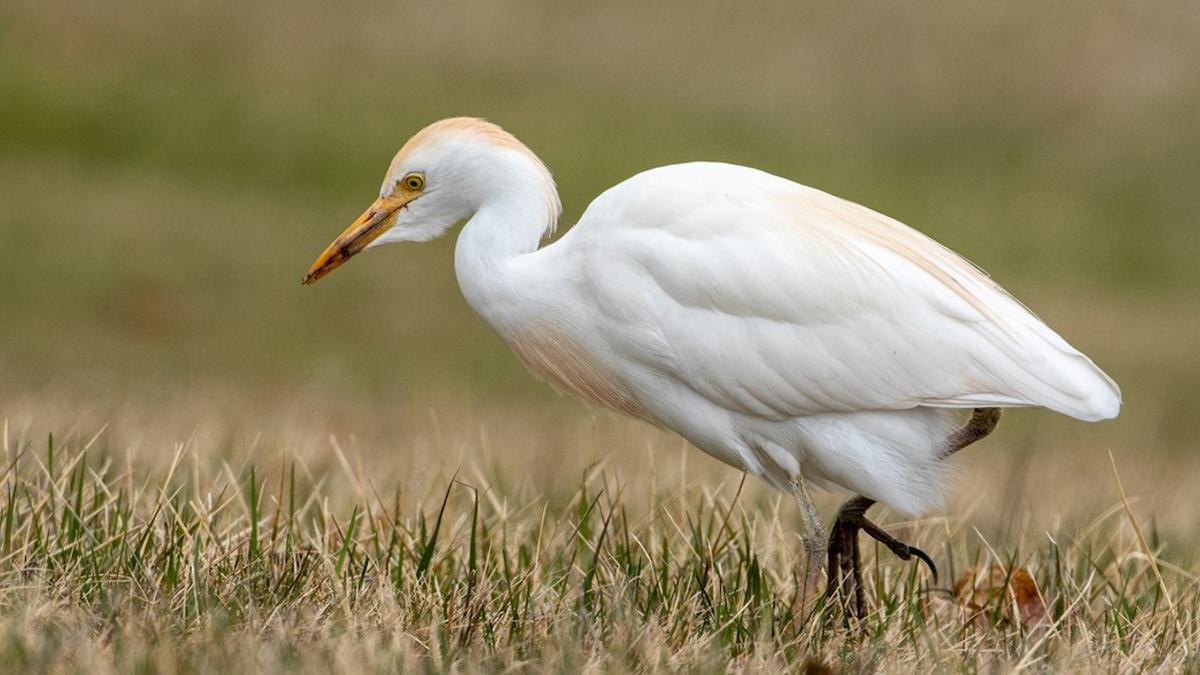egret: (308, 75, 1110, 627)
